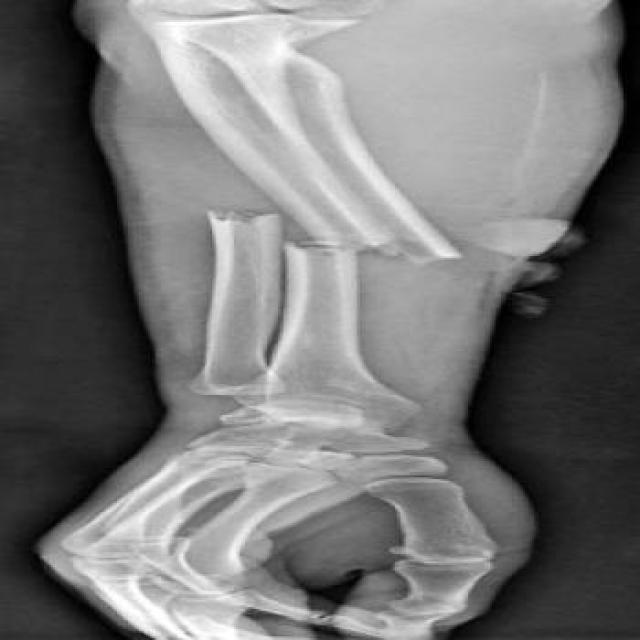Fracture: (190, 192, 463, 276)
